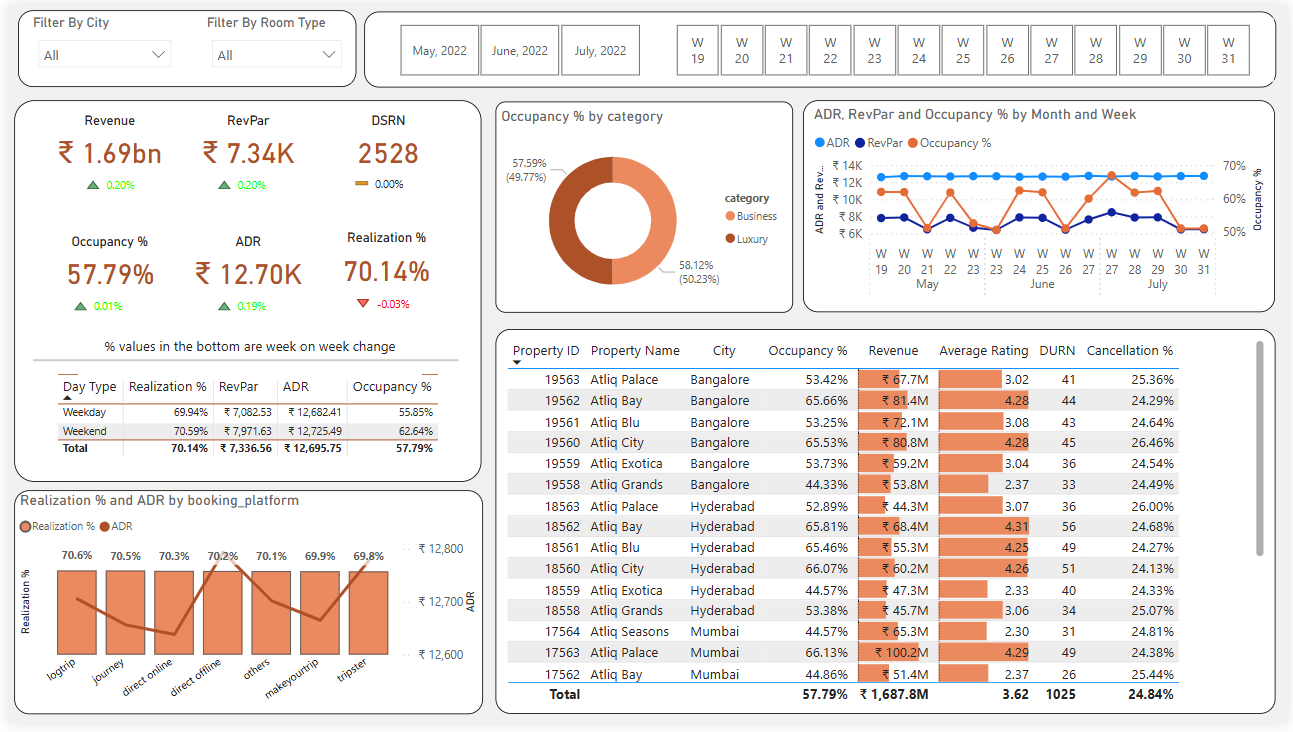

This screenshot's page, from the dashboard's own definition file:
{"tool":"powerbi","page":{"name":"Page 1","canvas":[1280,720],"ordinal":0},"visuals":[{"type":"slicer","fields":{"Values":["dim_date.Week"]},"box":[642.2,13.9,623.4,64.2],"z":0,"group":"g2"},{"type":"textbox","box":[70.5,328,344,49.5],"z":0,"group":"g12"},{"type":"shape","box":[10,6.2,338.1,76.4],"z":500,"group":"g7"},{"type":"shape","box":[356.2,6.9,911.9,76.3],"z":500,"group":"g9"},{"type":"shape","box":[6.2,96.2,467.5,381.3],"z":500,"group":"g14"},{"type":"group","id":"g1","title":"Group 2","box":[19.8,11.6,322.3,66.3],"z":1000,"group":"g7"},{"type":"group","id":"g2","title":"Group 5","box":[365.7,13.4,900.5,64.7],"z":1000,"group":"g9"},{"type":"tableEx","fields":{"Values":["dim_hotels.property_id","dim_hotels.property_name","dim_hotels.city","Measures (2).Occupancy %","Measures (2).Total Revenue","Measures (2).Average Rating","Measures (2).DURN","Measures (2).Cancellation %"]},"box":[487.5,325,780,385],"z":1000},{"type":"slicer","title":"Filter By City","fields":{"Values":["dim_hotels.city"]},"box":[19.8,11.6,153.1,67],"z":2000,"group":"g1"},{"type":"slicer","fields":{"Values":["dim_date.mmm yy"]},"box":[365.7,13.4,289.4,64.8],"z":2000,"group":"g2"},{"type":"donutChart","fields":{"Category":["dim_hotels.category"],"Y":["Measures (2).Occupancy %"]},"box":[487.5,97.5,297.5,211.2],"z":2000},{"type":"slicer","title":"Filter By Room Type","fields":{"Values":["dim_rooms.room_class"]},"box":[193.7,11.6,149.9,67],"z":3000,"group":"g1"},{"type":"lineStackedColumnComboChart","fields":{"Y":["Measures (2).Realization %"],"Category":["fact_bookings.booking_platform"],"Y2":["Measures (2).ADR"]},"box":[5.7,485.7,468.6,224.3],"z":3000},{"type":"lineChart","fields":{"Y":["Measures (2).ADR","Measures (2).RevPar"],"Category":["dim_date.mmm yy.Variation.Date Hierarchy.Month","dim_date.Week"],"Y2":["Measures (2).Occupancy %"]},"box":[795.3,96.5,472.4,211.8],"z":4000},{"type":"group","id":"g3","title":"Group 1","box":[24.3,109,155.9,105.1],"z":4000,"group":"g5"},{"type":"group","id":"g4","title":"Group 1","box":[164.8,109.3,152.7,100.4],"z":5000,"group":"g5"},{"type":"tableEx","fields":{"Values":["Measures (2).DSRN WoW change %"]},"box":[336.2,137.9,88.4,61.1],"z":5000,"group":"g10"},{"type":"tableEx","fields":{"Values":["Measures (2).Revenue WoW change %"]},"box":[68.4,138.9,85.7,75.1],"z":5000,"group":"g3"},{"type":"tableEx","fields":{"Values":["Measures (2).RevPar WoW change %"]},"box":[200.4,139.1,86.8,70.7],"z":5000,"group":"g4"},{"type":"tableEx","fields":{"Values":["Measures (2).Realization WoW change %"]},"box":[338.6,258.7,81.2,60],"z":5000,"group":"g11"},{"type":"tableEx","fields":{"Values":["Measures (2).Occupancy WoW change %"]},"box":[56.2,259.3,85.7,62.8],"z":5000,"group":"g6"},{"type":"tableEx","fields":{"Values":["Measures (2).ADR WoW change %"]},"box":[200.4,259.9,85.1,61.1],"z":5000,"group":"g8"},{"type":"tableEx","fields":{"Values":["dim_date.day type","Measures (2).Realization %","Measures (2).RevPar","Measures (2).ADR","Measures (2).Occupancy %"]},"box":[43.8,365.5,402.8,94.7],"z":5000,"group":"g13"},{"type":"group","id":"g5","title":"Group 3","box":[24.3,109,435.7,213.1],"z":6000,"group":"g13"},{"type":"card","title":"Revenue","fields":{"Values":["Measures (2).Total Revenue"]},"box":[24.3,109,155.9,64.1],"z":6000,"group":"g3"},{"type":"card","title":"RevPar","fields":{"Values":["Measures (2).RevPar"]},"box":[164.8,109.3,152.7,64.1],"z":6000,"group":"g4"},{"type":"card","title":"DSRN","fields":{"Values":["Measures (2).DSRN"]},"box":[301.5,109.3,157.9,64.1],"z":6000,"group":"g10"},{"type":"card","title":"Realization %","fields":{"Values":["Measures (2).Realization %"]},"box":[298.1,227,161.9,65.1],"z":6000,"group":"g11"},{"type":"group","id":"g6","title":"Group 1","box":[24.3,229.7,155.9,92.4],"z":6000,"group":"g5"},{"type":"card","title":"Occupancy %","fields":{"Values":["Measures (2).Occupancy %"]},"box":[24.3,229.7,155.9,64.1],"z":6000,"group":"g6"},{"type":"card","title":"ADR","fields":{"Values":["Measures (2).ADR"]},"box":[164.8,229.9,152.7,64.1],"z":6000,"group":"g8"},{"type":"group","id":"g7","title":"Group 4","box":[10,6.2,337.5,76.2],"z":7000},{"type":"group","id":"g8","title":"Group 1","box":[164.8,229.9,152.7,91.1],"z":7000,"group":"g5"},{"type":"group","id":"g9","title":"Group 6","box":[356.2,6.9,911.5,76.2],"z":8000},{"type":"group","id":"g10","title":"Group 1","box":[301.5,109.3,157.9,89.8],"z":8000,"group":"g5"},{"type":"group","id":"g11","title":"Group 1","box":[298.1,227,161.9,91.7],"z":9000,"group":"g5"},{"type":"shape","box":[25.3,320.5,426,72.5],"z":9000,"group":"g12"},{"type":"group","id":"g12","title":"Group 7","box":[25.3,320.5,425.9,72.2],"z":9001,"group":"g13"},{"type":"group","id":"g13","title":"Group 8","box":[24.3,109,435.7,351.2],"z":9002,"group":"g14"},{"type":"group","id":"g14","title":"Group 9","box":[6.2,96.2,467.5,381.2],"z":9003}]}

Visuals, with their boxes in screenshot pixels (x1, y1, x2, y2), scaled from the page's 1280x720 canvas onto the 1293x732 screenshot:
slicer - dim_date.Week: [x1=649, y1=14, x2=1278, y2=79]
textbox: [x1=71, y1=333, x2=419, y2=384]
shape: [x1=10, y1=6, x2=352, y2=84]
shape: [x1=360, y1=7, x2=1281, y2=85]
shape: [x1=6, y1=98, x2=479, y2=485]
"Group 2" group: [x1=20, y1=12, x2=346, y2=79]
"Group 5" group: [x1=369, y1=14, x2=1279, y2=79]
tableEx - dim_hotels.property_id x dim_hotels.property_name: [x1=492, y1=330, x2=1280, y2=722]
"Filter By City" slicer: [x1=20, y1=12, x2=175, y2=80]
slicer - dim_date.mmm yy: [x1=369, y1=14, x2=662, y2=80]
donutChart - dim_hotels.category x Measures (2).Occupancy %: [x1=492, y1=99, x2=793, y2=314]
"Filter By Room Type" slicer: [x1=196, y1=12, x2=347, y2=80]
lineStackedColumnComboChart - Measures (2).Realization % x fact_bookings.booking_platform: [x1=6, y1=494, x2=479, y2=722]
lineChart - Measures (2).ADR x Measures (2).RevPar: [x1=803, y1=98, x2=1281, y2=313]
"Group 1" group: [x1=25, y1=111, x2=182, y2=218]
"Group 1" group: [x1=166, y1=111, x2=321, y2=213]
tableEx - Measures (2).DSRN WoW change %: [x1=340, y1=140, x2=429, y2=202]
tableEx - Measures (2).Revenue WoW change %: [x1=69, y1=141, x2=156, y2=218]
tableEx - Measures (2).RevPar WoW change %: [x1=202, y1=141, x2=290, y2=213]
tableEx - Measures (2).Realization WoW change %: [x1=342, y1=263, x2=424, y2=324]
tableEx - Measures (2).Occupancy WoW change %: [x1=57, y1=264, x2=143, y2=327]
tableEx - Measures (2).ADR WoW change %: [x1=202, y1=264, x2=288, y2=326]
tableEx - dim_date.day type x Measures (2).Realization %: [x1=44, y1=372, x2=451, y2=468]
"Group 3" group: [x1=25, y1=111, x2=465, y2=327]
"Revenue" card: [x1=25, y1=111, x2=182, y2=176]
"RevPar" card: [x1=166, y1=111, x2=321, y2=176]
"DSRN" card: [x1=305, y1=111, x2=464, y2=176]
"Realization %" card: [x1=301, y1=231, x2=465, y2=297]
"Group 1" group: [x1=25, y1=234, x2=182, y2=327]
"Occupancy %" card: [x1=25, y1=234, x2=182, y2=299]
"ADR" card: [x1=166, y1=234, x2=321, y2=299]
"Group 4" group: [x1=10, y1=6, x2=351, y2=84]
"Group 1" group: [x1=166, y1=234, x2=321, y2=326]
"Group 6" group: [x1=360, y1=7, x2=1281, y2=84]
"Group 1" group: [x1=305, y1=111, x2=464, y2=202]
"Group 1" group: [x1=301, y1=231, x2=465, y2=324]
shape: [x1=26, y1=326, x2=456, y2=400]
"Group 7" group: [x1=26, y1=326, x2=456, y2=399]
"Group 8" group: [x1=25, y1=111, x2=465, y2=468]
"Group 9" group: [x1=6, y1=98, x2=479, y2=485]
